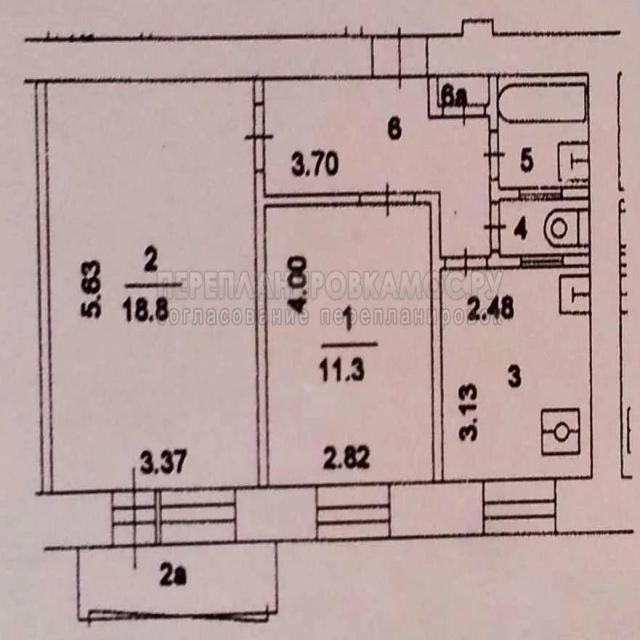Bathrooms: (500, 76, 589, 186), (501, 200, 589, 254)
Corridors: (266, 78, 490, 255), (82, 544, 274, 617), (439, 76, 487, 105)
Doors: (112, 465, 156, 571), (372, 24, 429, 91), (243, 100, 275, 171), (360, 178, 416, 218), (480, 201, 509, 253), (442, 96, 486, 130), (479, 130, 507, 180), (445, 246, 487, 276)
LBwalls: (426, 17, 623, 477), (23, 34, 373, 84), (390, 480, 484, 538), (556, 476, 639, 535), (35, 490, 112, 549), (236, 486, 316, 542), (155, 489, 161, 544)
Offices: (48, 82, 257, 493), (268, 204, 432, 485), (443, 266, 591, 481)
Walls: (254, 169, 361, 486), (76, 542, 280, 633), (413, 191, 447, 483), (37, 83, 52, 495), (490, 178, 521, 204), (484, 75, 498, 131), (428, 75, 445, 119), (564, 255, 589, 268), (564, 186, 587, 199), (254, 78, 264, 106)
Windows: (482, 478, 557, 536), (315, 484, 392, 540), (160, 489, 236, 544), (519, 186, 564, 200), (519, 255, 564, 268)
